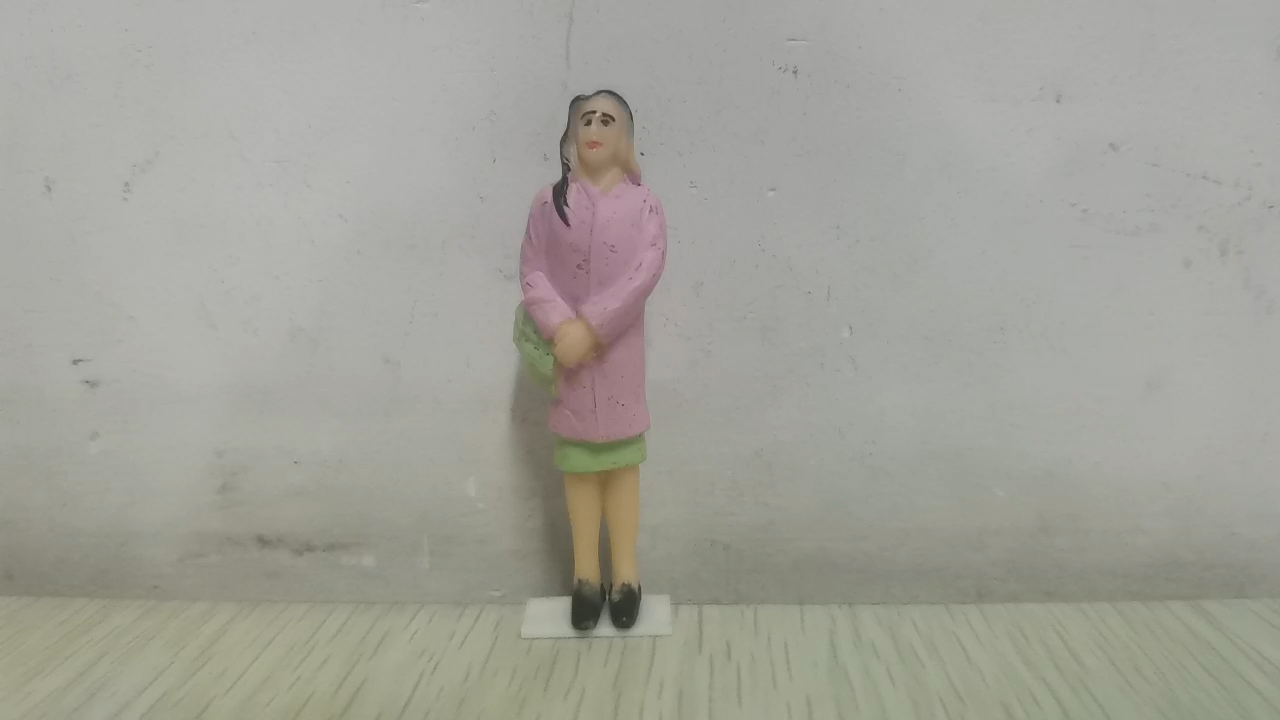person: (510, 88, 673, 630)
